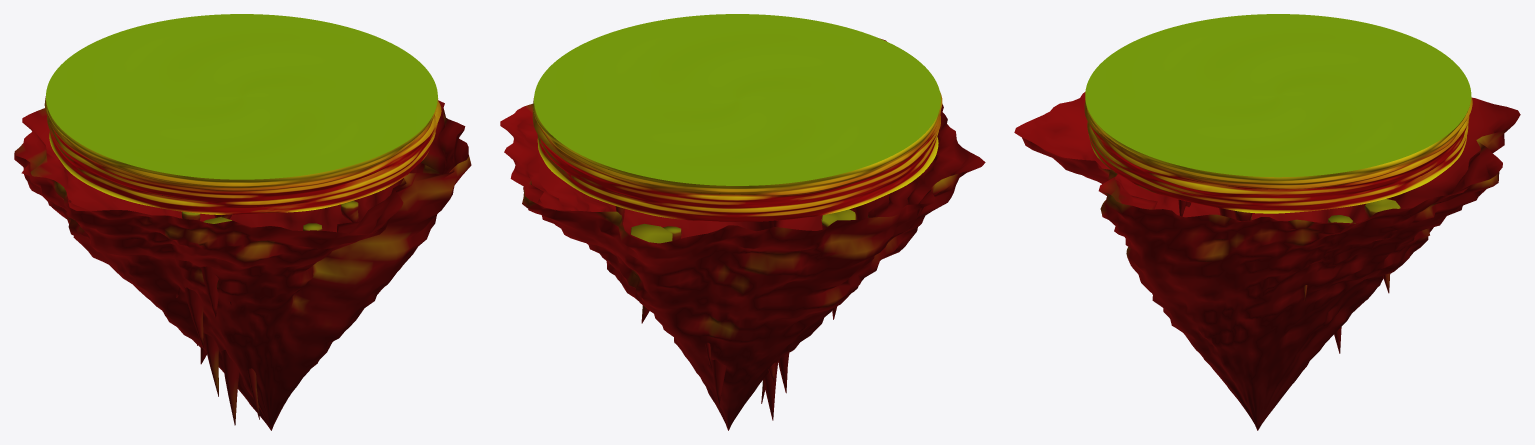
The model's file is island_3.glb.
3 renders of one model, left to right at view 1: azimuth 30°, elevation 25°; view 2: azimuth 150°, elevation 25°; view 3: azimuth 270°, elevation 25°, orthographic. The views are drawn at different scales.
Visible parts, largest first — view 1: island_3; view 2: island_3; view 3: island_3.
Boxes of the visible parts, x1,y1,x2,y2 form: island_3: [14, 14, 471, 430]; island_3: [500, 14, 985, 430]; island_3: [1014, 14, 1520, 430].
Size of the model in its own units: 37.1 by 29.84 by 41.96.
